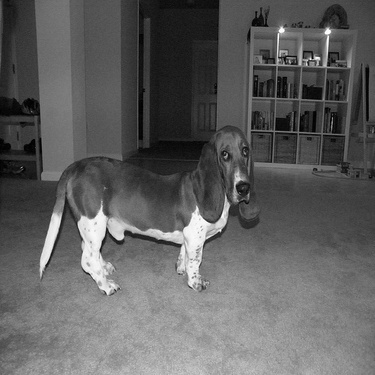dog: (32, 121, 259, 300)
